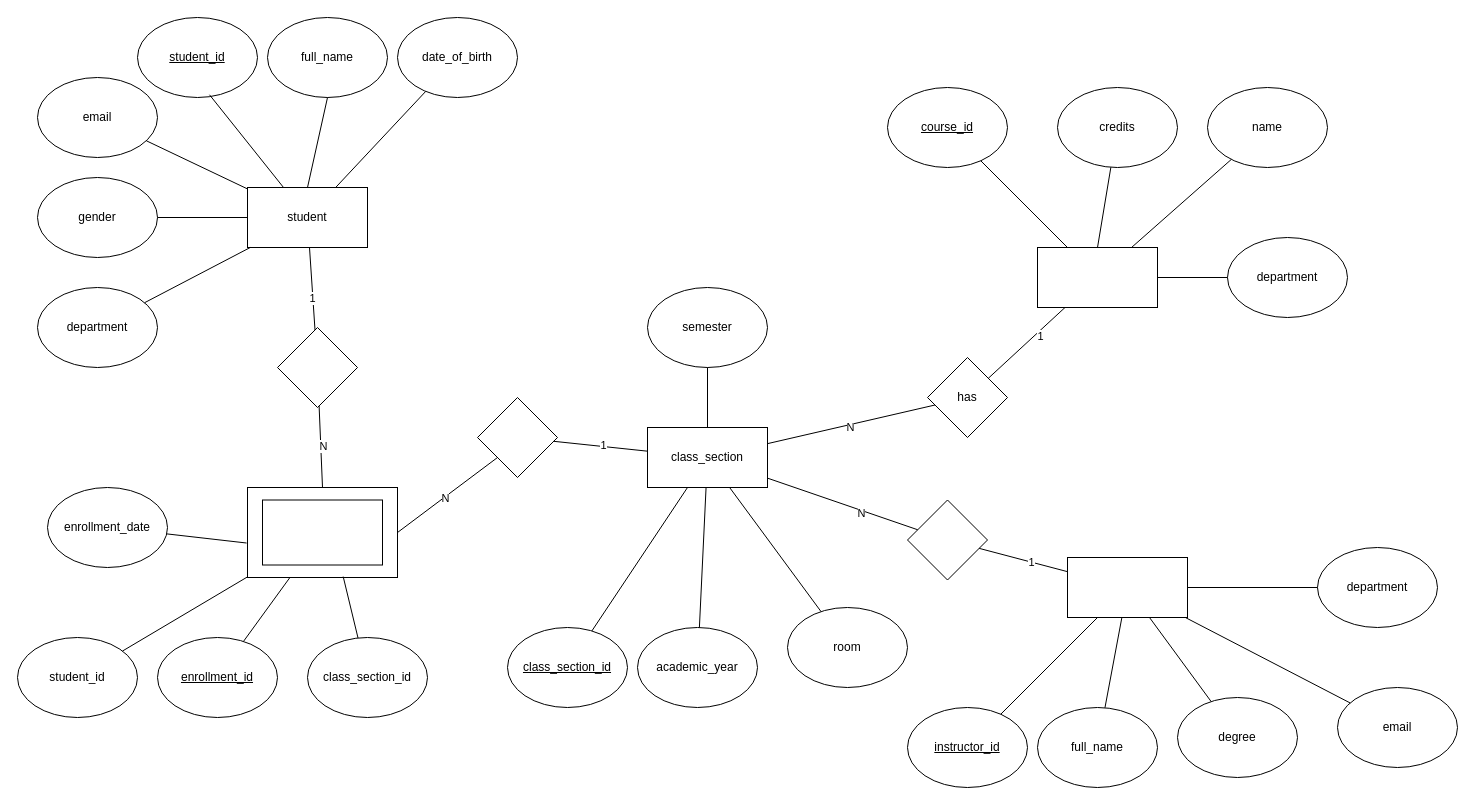
Image size: 1475x805. Some labels were removed from this diagram. The centre of each missing label's shape, as x and y in pixels:
"course" goes at point 1097,277.
"enrollment" goes at point 322,532.
"include" goes at point 517,437.
"instructor" goes at point 1127,587.
"sign up" goes at point 317,367.
"teach" goes at point 947,539.
